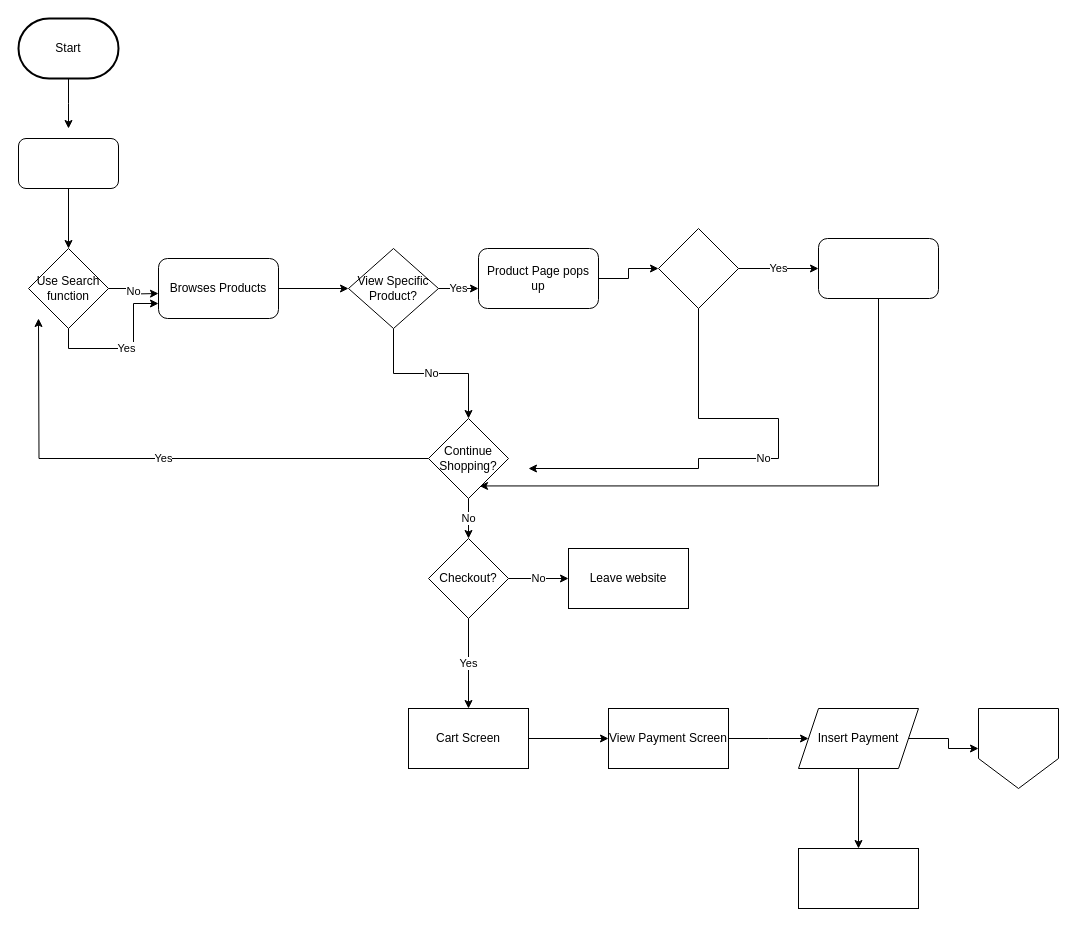
Image size: 1076x926. Some labels were removed from this diagram. The shapes that lost their labels are listed below. From the top down, each one's box as (x1, y1, x2, y2) in pixels, then its label:
(18, 138, 118, 188): Customer Arrives at website
(658, 228, 738, 308): Add to Cart?
(818, 238, 938, 298): Product Added to Cart Confirmation
(978, 708, 1058, 788): User Recieves Email
(798, 848, 918, 908): Order Confirmation Screen
